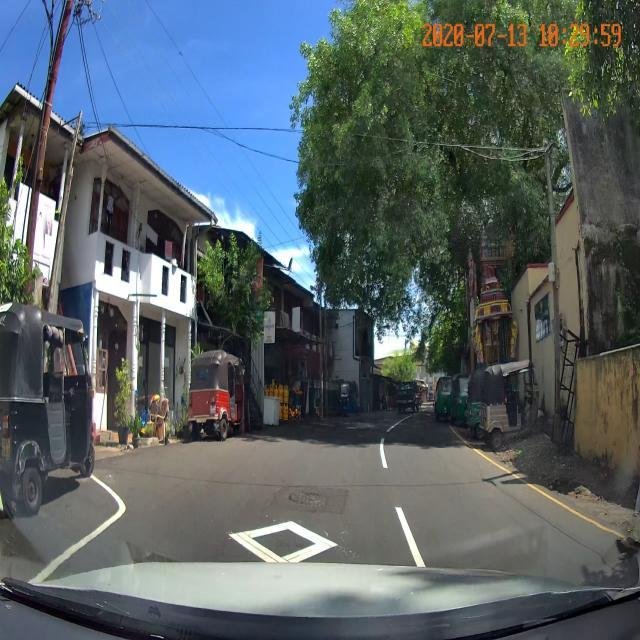diamond: (139, 485, 429, 563)
